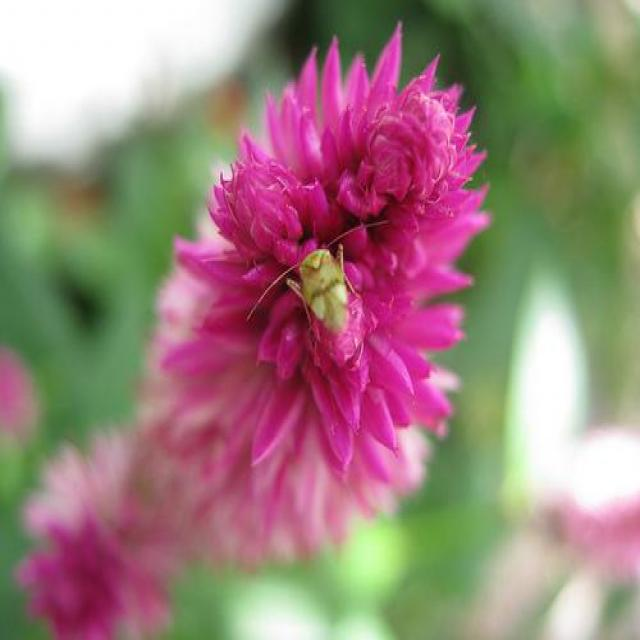Miridae-Adult-: (231, 210, 409, 345)
